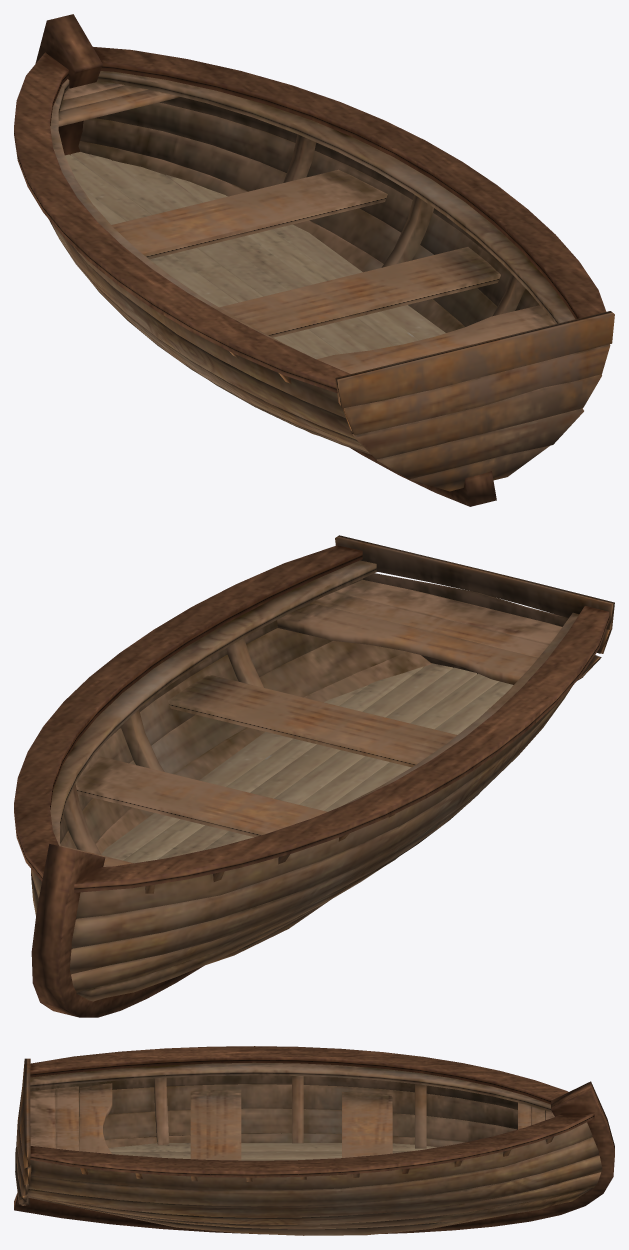
The model's file is boat.gltf.
3 views of the same model, one above another, from view 1: azimuth 30°, elevation 25°; view 2: azimuth 150°, elevation 25°; view 3: azimuth 270°, elevation 25° (orthographic). The views are drawn at different scales.
Parts seen in each view (by area): view 1: boat; view 2: boat; view 3: boat.
Part boxes in pixels (box(x1,y1,x2,y2)): boat: box(14, 14, 614, 506); boat: box(14, 535, 614, 1017); boat: box(14, 1046, 614, 1235).
Size of the model in its own units: 0.8248 by 0.4439 by 1.67.
1 material, 1 textured.
